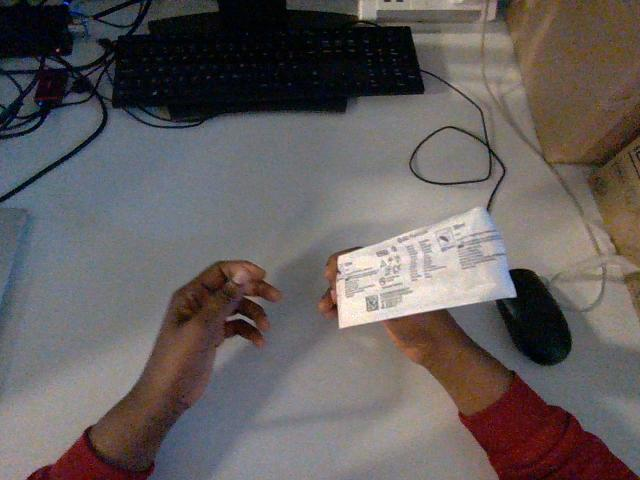syringe: (337, 207, 515, 327)
